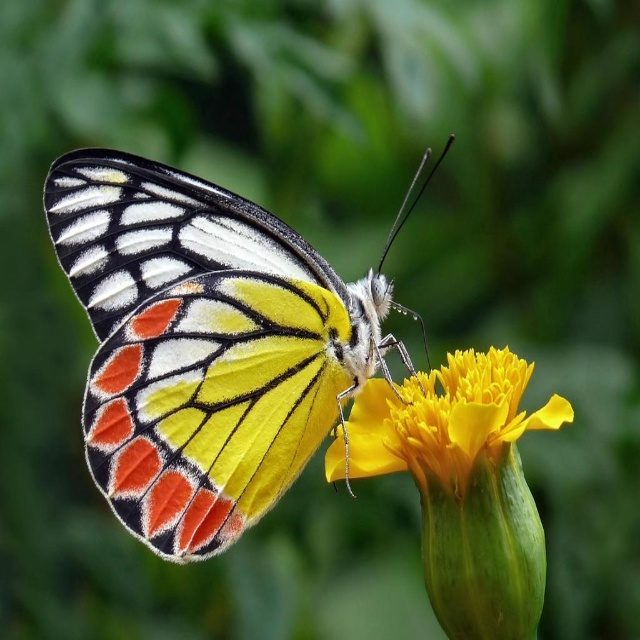Butterfly: (43, 134, 455, 565)
